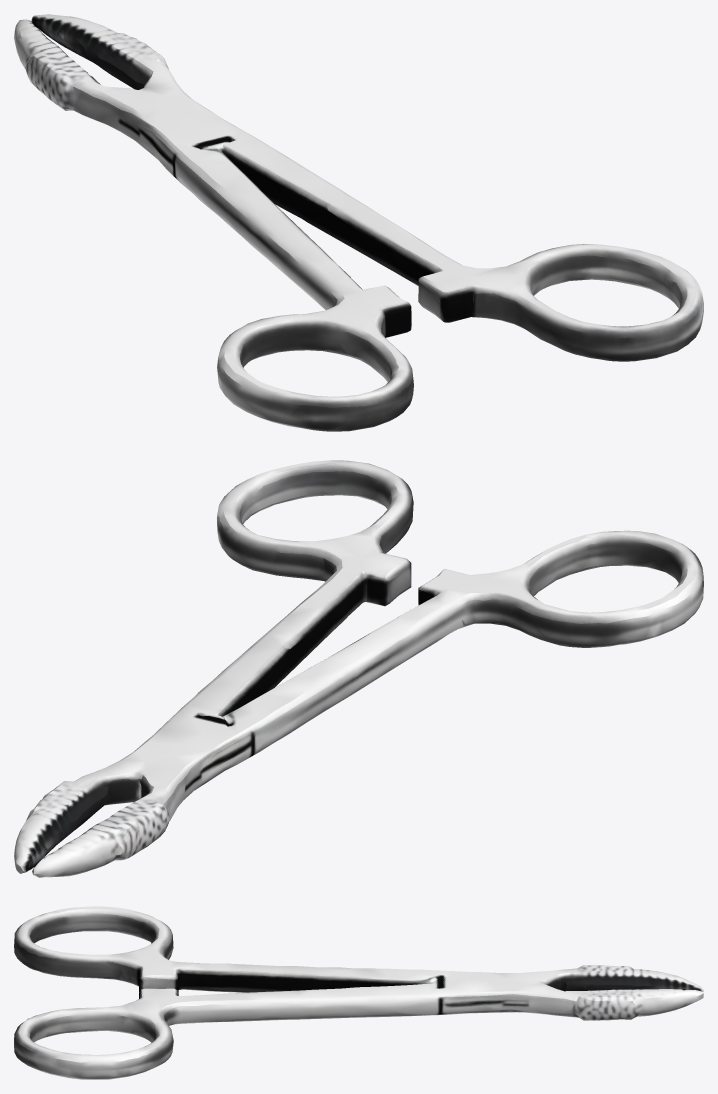
The model's file is StageForceps.glb.
3 views of the same model, one above another, from view 1: azimuth 30°, elevation 25°; view 2: azimuth 150°, elevation 25°; view 3: azimuth 270°, elevation 25° (orthographic). The views are drawn at different scales.
Parts seen in each view (by area): view 1: geometry_0; view 2: geometry_0; view 3: geometry_0.
Part boxes in pixels (<box>): geometry_0: <box>14,14,703,431</box>; geometry_0: <box>14,460,703,877</box>; geometry_0: <box>14,906,703,1079</box>.
Size of the model in its own units: 0.0669 by 0.00475 by 0.125.
1 material, 1 textured.
